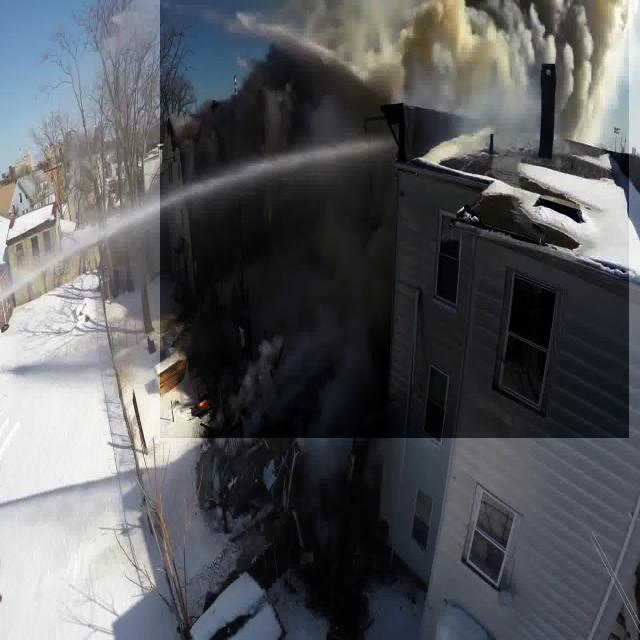Smoke: (160, 0, 629, 438)
